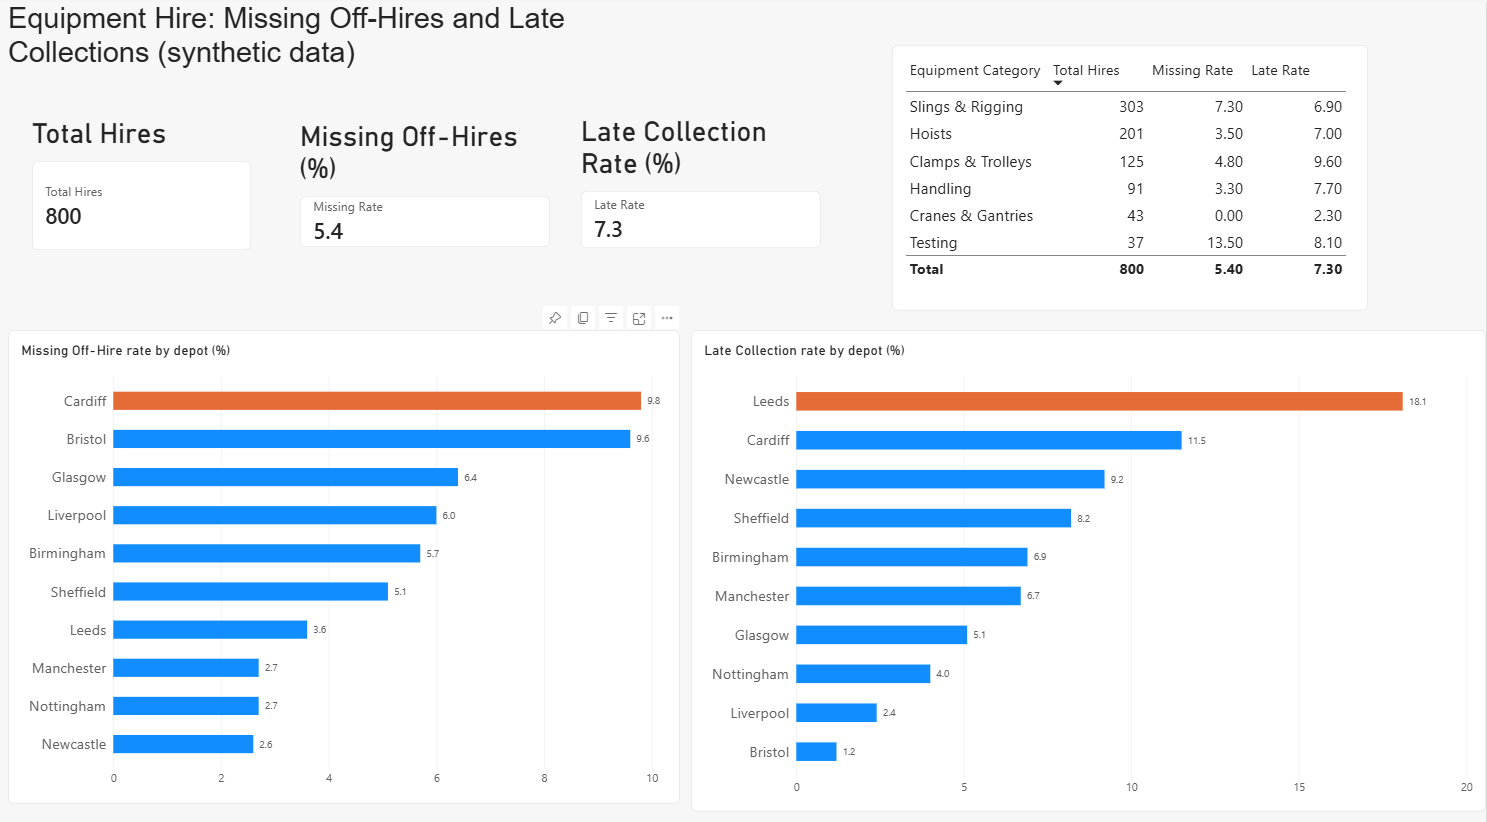

The page's visual inventory and layout, read from the dashboard file:
{"tool":"powerbi","page":{"name":"Page 1","canvas":[1920,1080],"ordinal":0},"visuals":[{"type":"clusteredBarChart","title":"Missing Off-Hire rate by depot (%)","fields":{"Category":["hire_clean.depot"],"Y":["hire_clean.Missing Rate"]},"box":[10.5,424.2,867.8,611.5],"z":3},{"type":"clusteredBarChart","title":"Late Collection rate by depot (%)","fields":{"Category":["hire_clean.depot"],"Y":["hire_clean.Late Rate"]},"box":[893.3,424.2,1026.7,622],"z":4},{"type":"tableEx","fields":{"Values":["hire_clean.equipment_category","hire_clean.Total Hires","hire_clean.Missing Rate","hire_clean.Late Rate"]},"box":[1152.6,55.5,614.5,343.2],"z":5},{"type":"textbox","box":[10.5,0,774.9,131.9],"z":6},{"type":"cardVisual","title":"Missing Off-Hires (%)","fields":{"Data":["hire_clean.Missing Rate"]},"box":[388.2,152.9,323.7,164.9],"z":7},{"type":"cardVisual","title":"Late Collection Rate (%)","fields":{"Data":["hire_clean.Late Rate"]},"box":[750.9,145.4,310.3,172.4],"z":8},{"type":"cardVisual","title":"Total Hires","fields":{"Data":["hire_clean.Total Hires"]},"box":[42,148.4,283.3,172.4],"z":9}]}

Visuals, with their boxes in screenshot pixels (x1, y1, x2, y2), scaled from the page's 1920x1080 canvas onto the 1487x822 screenshot:
"Missing Off-Hire rate by depot (%)" clusteredBarChart: l=8, t=323, r=680, b=788
"Late Collection rate by depot (%)" clusteredBarChart: l=692, t=323, r=1486, b=796
tableEx - hire_clean.equipment_category x hire_clean.Total Hires: l=893, t=42, r=1369, b=303
textbox: l=8, t=0, r=608, b=100
"Missing Off-Hires (%)" cardVisual: l=301, t=116, r=551, b=242
"Late Collection Rate (%)" cardVisual: l=582, t=111, r=822, b=242
"Total Hires" cardVisual: l=33, t=113, r=252, b=244
